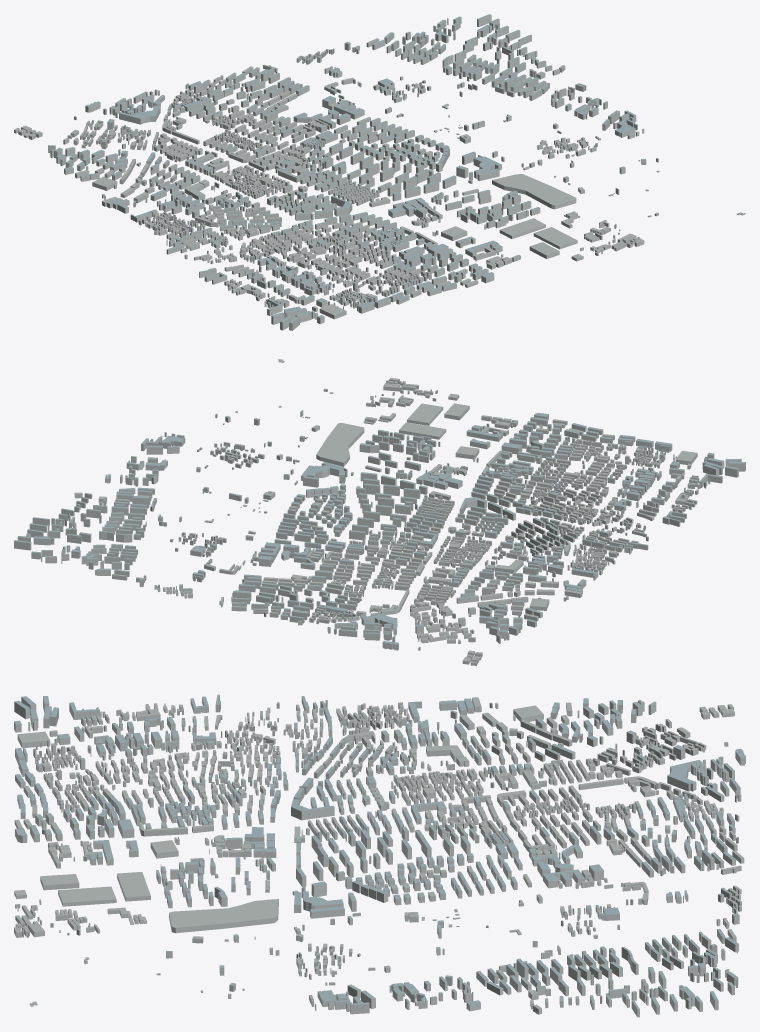
Rendered from far.glb.
3 views of the same model, one above another, from view 1: azimuth 30°, elevation 25°; view 2: azimuth 150°, elevation 25°; view 3: azimuth 270°, elevation 25° (orthographic). The views are drawn at different scales.
Bounding box in the file's own units: 2164 × 40.94 × 2120.
